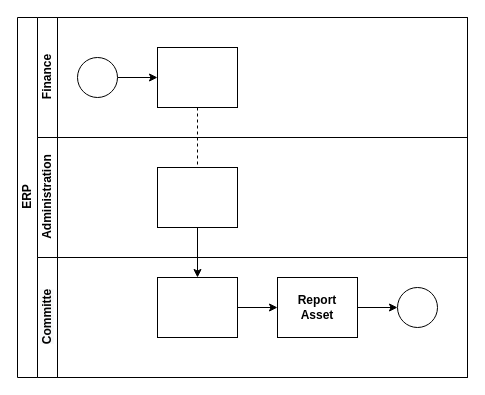
The diagram is 485 pixels wide and 395 high, and some of its shapes have lost their labels. The shapes that lost their labels are listed below. From the top down, each one's centre as x and y in pixels, then its label:
At (197,77): "Set Schedule".
At (197,197): "Assign Committe".
At (197,307): "Count Inventory".
